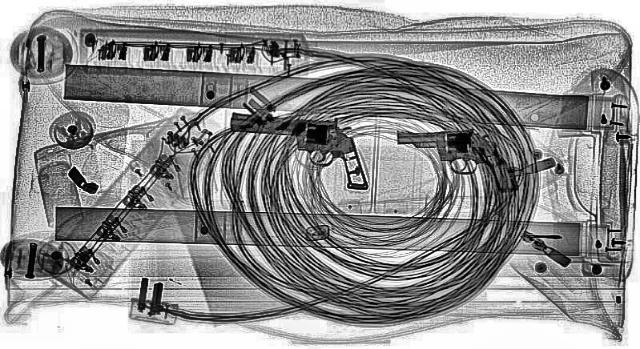Gun: (205, 110, 392, 189), (392, 125, 518, 197)
